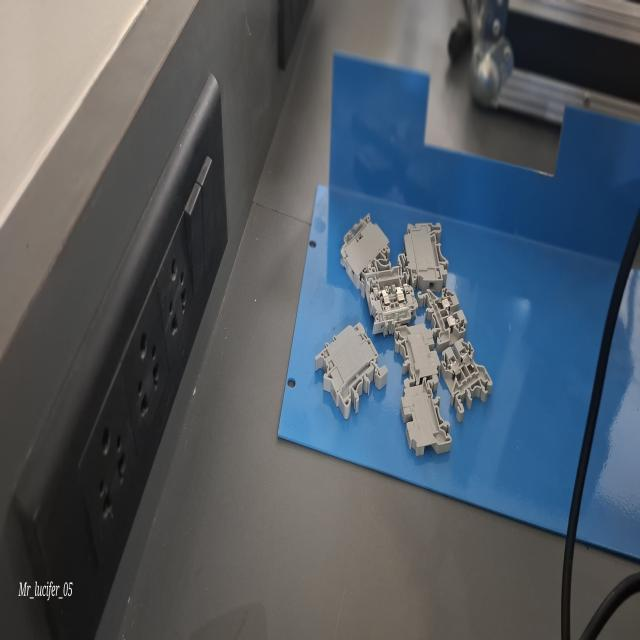Inverted: (396, 366, 454, 466)
Pass: (441, 340, 497, 422), (415, 280, 470, 350)
